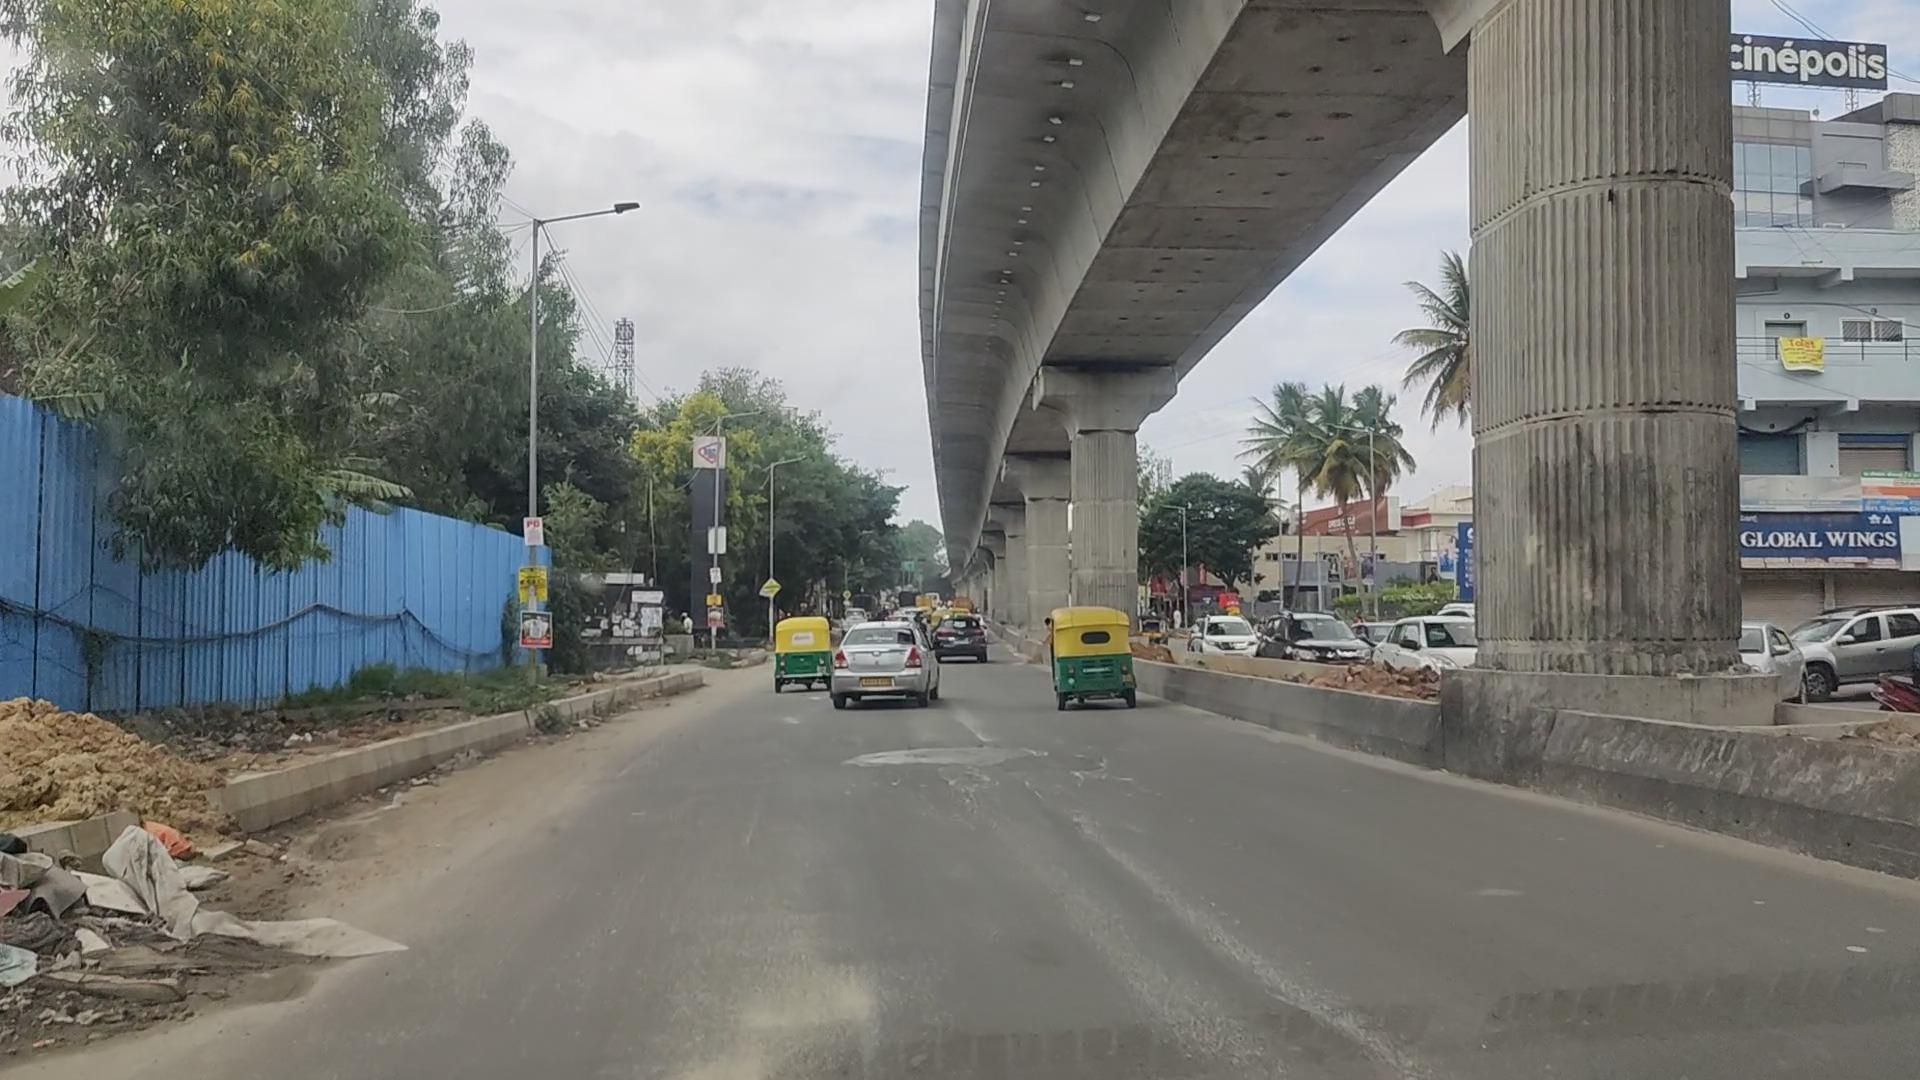LMV: (828, 617, 943, 716), (1054, 604, 1138, 712)
RoadDamages: (841, 740, 1052, 771), (1067, 745, 1138, 798), (951, 775, 993, 819)
